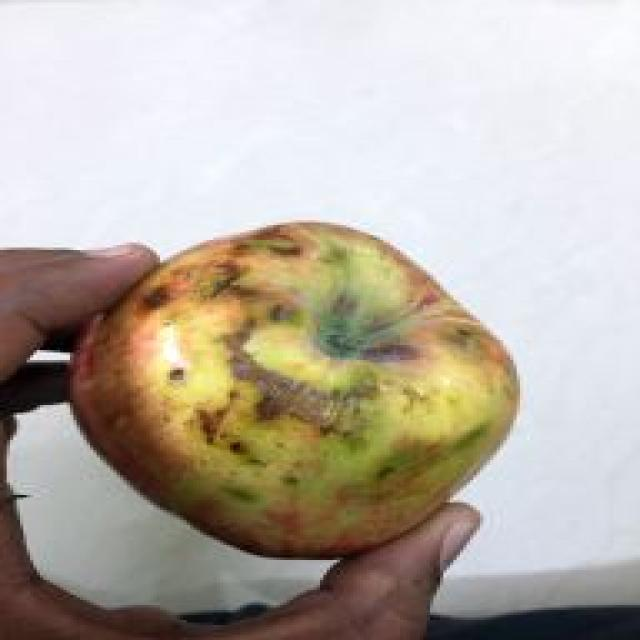Rotten_Apple: (62, 228, 540, 558)
